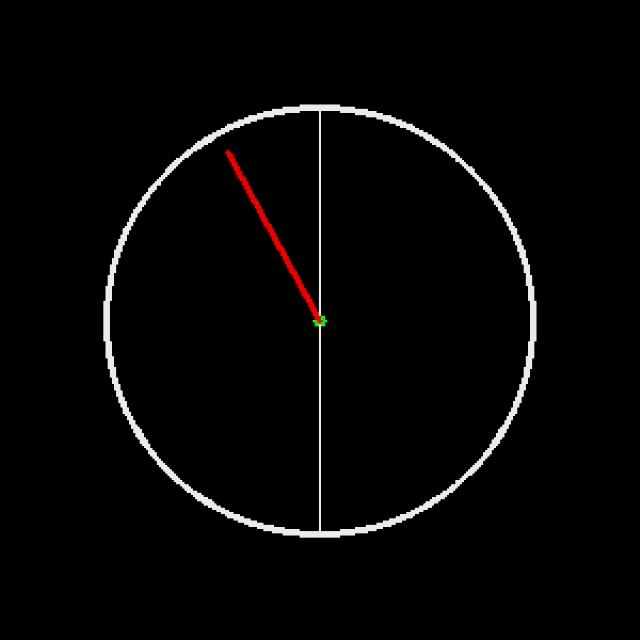Needle_Tip: (207, 144, 253, 175)
Needle_base: (281, 285, 343, 358)
